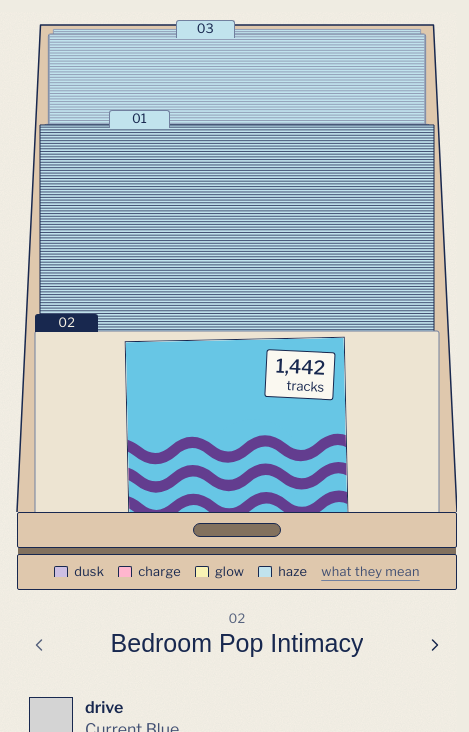
Test case: <HomeCrate> › pulls a divider when its tab is clicked, and names it under the crate
Step 1. Click the button "01" → [139, 119], box [109,106,170,131]
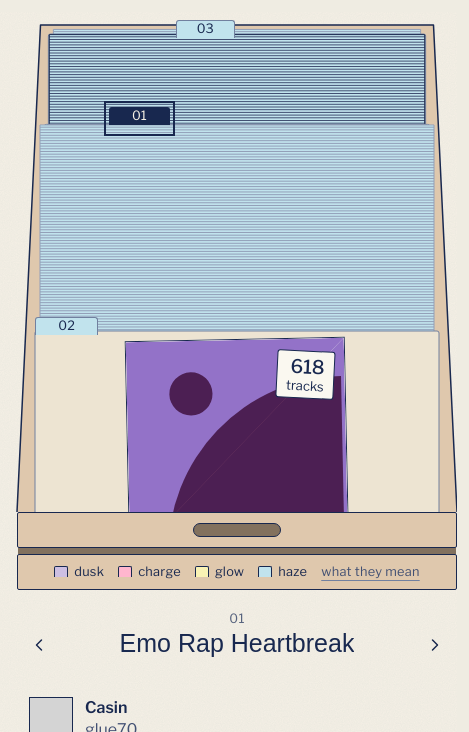
Check: the link "Casin" is shown, box [85,698,127,717]
Check: the link "drive" is gone
